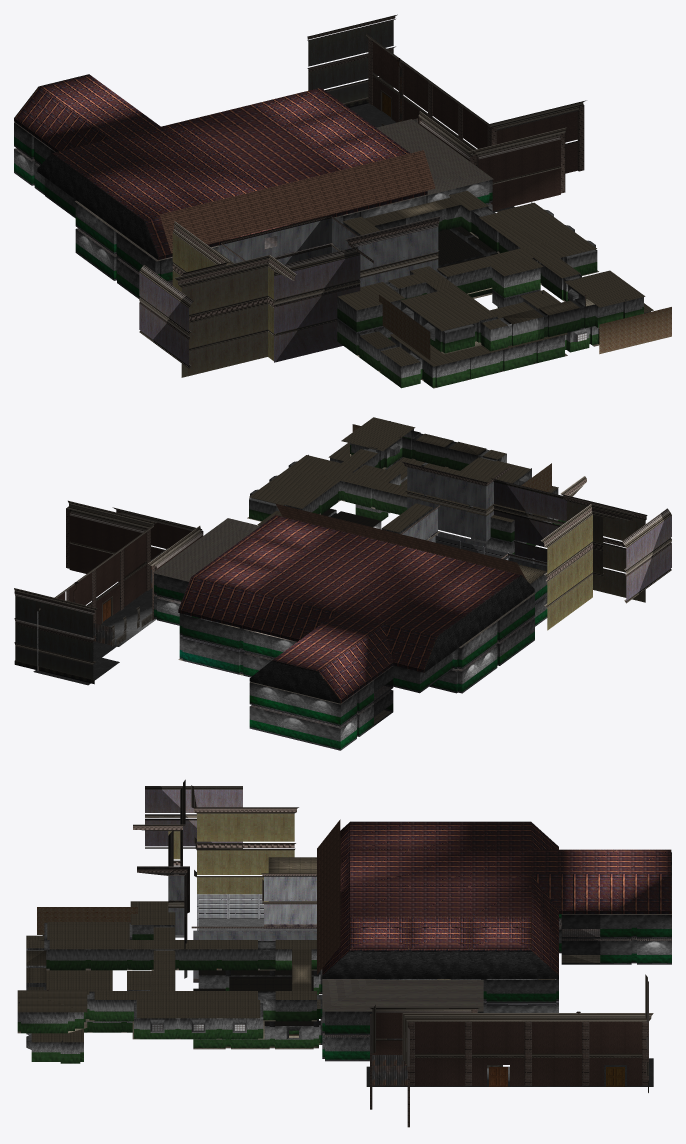
Rendered from Archives.glb.
The picture shows the model from 3 angles, top to bottom: view 1: azimuth 30°, elevation 25°; view 2: azimuth 150°, elevation 25°; view 3: azimuth 270°, elevation 25°; orthographic projection. The views are drawn at different scales.
Visible parts, largest first — view 1: Archives; view 2: Archives; view 3: Archives.
Boxes of the visible parts, <box> form: Archives: <box>14,14,671,388</box>; Archives: <box>14,417,671,750</box>; Archives: <box>17,779,671,1127</box>.
Bounding box in the file's own units: 379 × 70.25 × 415.
56 materials, 55 textured.
